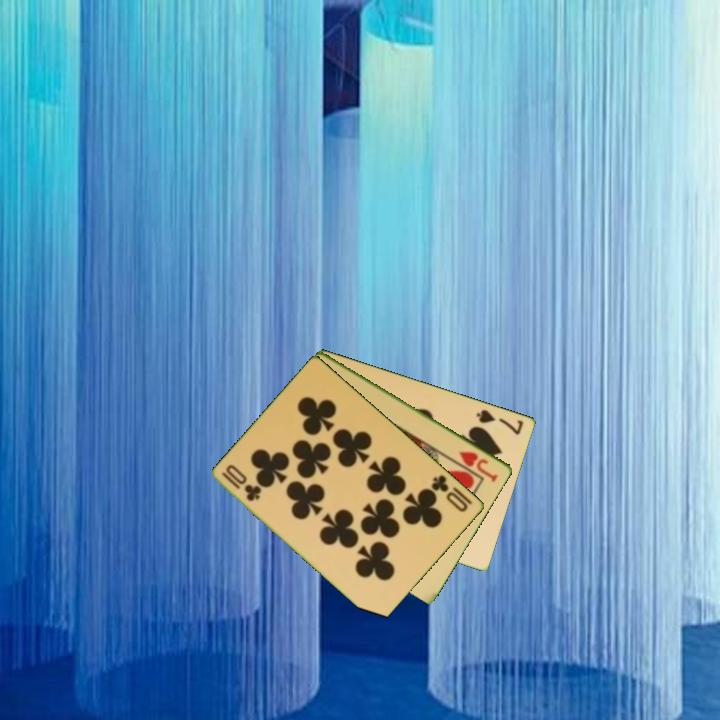10c: (428, 471, 471, 515), (218, 468, 264, 504)
7s: (473, 405, 527, 438)
Jh: (455, 447, 501, 485)
